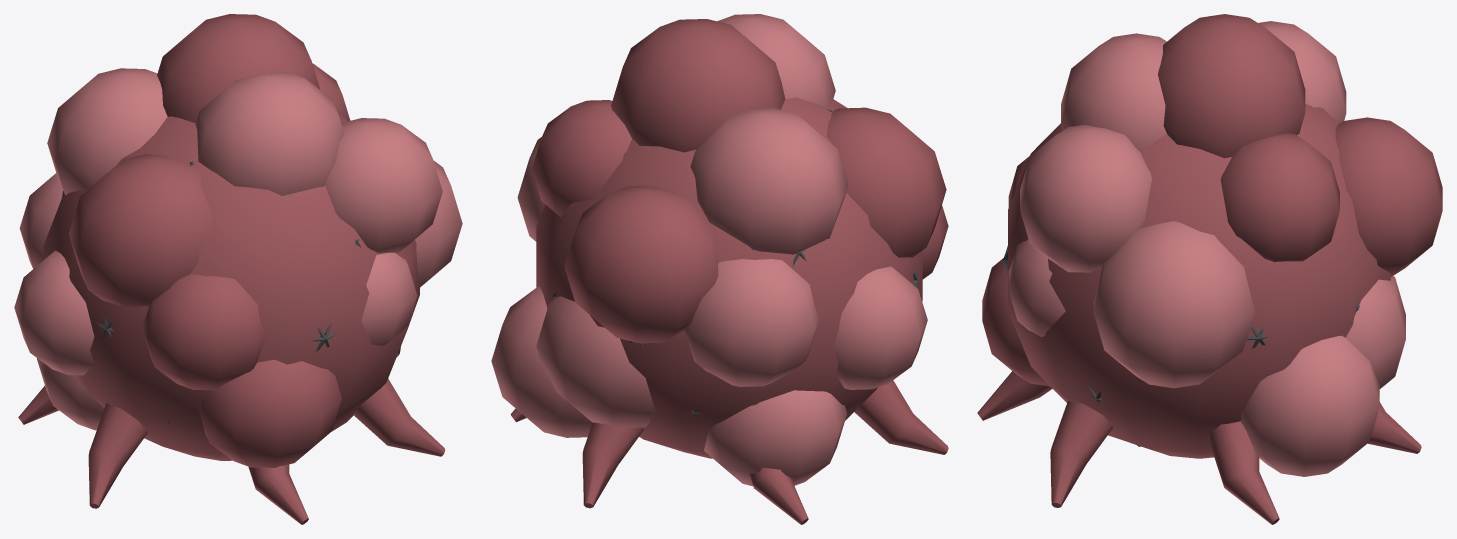
Rendered from nucleus_e_assembled.obj.
3 views of the same model, side by side, from view 1: azimuth 30°, elevation 25°; view 2: azimuth 150°, elevation 25°; view 3: azimuth 270°, elevation 25° (orthographic). The views are drawn at different scales.
Visible parts, largest first — view 1: source_component_121, source_component_125, source_component_132, source_component_135, source_component_131, source_component_134, source_component_136, source_component_137, source_component_130, source_component_126, source_component_141, source_component_143 (+6 smaller); view 2: source_component_121, source_component_128, source_component_136, source_component_137, source_component_123, source_component_125, source_component_127, source_component_133, source_component_130, source_component_122, source_component_124, source_component_132 (+5 smaller); view 3: source_component_121, source_component_129, source_component_137, source_component_135, source_component_124, source_component_128, source_component_122, source_component_132, source_component_133, source_component_143, source_component_138, source_component_136 (+4 smaller).
Boxes of the visible parts, x1,y1,x2,y2 form: source_component_121: (43,111,419,460); source_component_125: (68,153,212,307); source_component_132: (195,72,344,195); source_component_135: (325,118,442,252); source_component_131: (199,359,341,467); source_component_134: (142,274,265,390); source_component_136: (47,68,167,195); source_component_137: (157,14,320,123); source_component_130: (14,250,94,375); source_component_126: (361,252,417,346); source_component_141: (88,403,147,508); source_component_143: (353,378,445,456); source_component_121: (536,97,922,458); source_component_128: (564,185,718,343); source_component_136: (690,108,848,254); source_component_137: (611,19,785,152); source_component_123: (684,259,819,386); source_component_125: (826,107,946,257); source_component_127: (704,390,847,486); source_component_133: (536,296,655,427); source_component_130: (833,266,927,389); source_component_122: (532,100,631,216); source_component_124: (491,286,592,437); source_component_132: (717,14,835,106); source_component_121: (1008,103,1390,458); source_component_129: (1093,221,1254,388); source_component_137: (1158,14,1305,158); source_component_135: (1020,124,1151,272); source_component_124: (1240,335,1379,476); source_component_128: (1335,117,1442,276); source_component_122: (1220,133,1339,261); source_component_132: (1061,33,1166,151); source_component_133: (1345,276,1405,388); source_component_143: (1050,400,1113,507); source_component_138: (1207,421,1279,524); source_component_136: (1258,21,1346,123).
Bounding box in the file's own units: 1.17 × 1.12 × 1.11.
